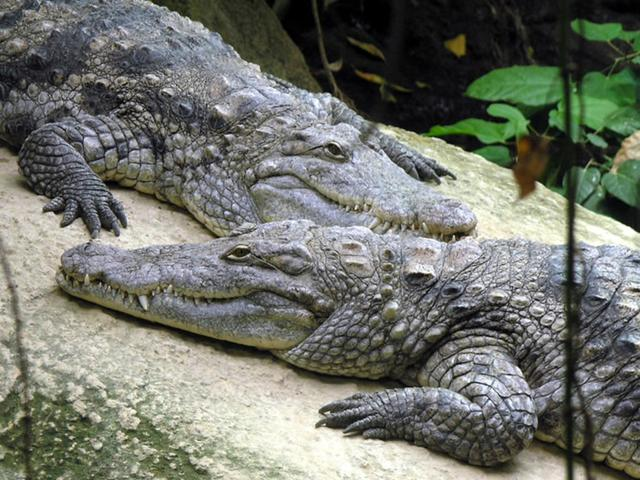crocodile: (23, 218, 601, 402), (11, 32, 521, 239)
